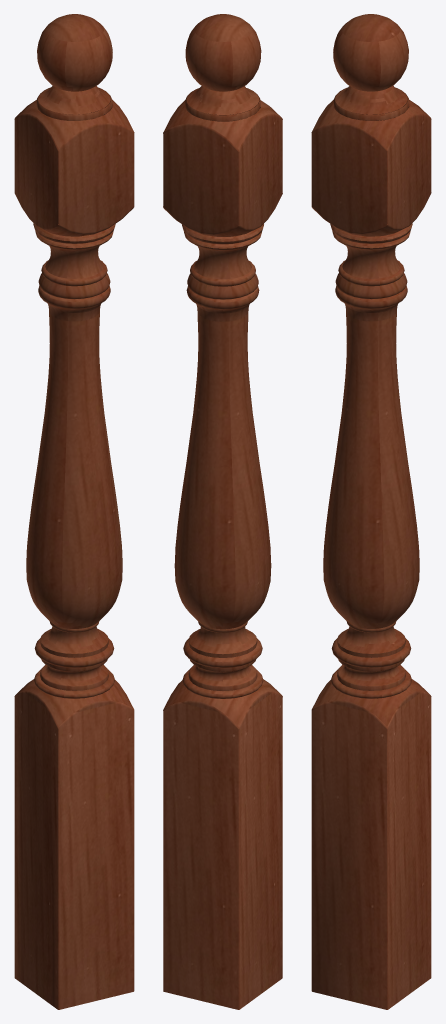
The model's file is big_col.gltf.
The picture shows the model from 3 angles, left to right: view 1: azimuth 30°, elevation 25°; view 2: azimuth 150°, elevation 25°; view 3: azimuth 330°, elevation 25°; orthographic projection.
Parts seen in each view (by area): view 1: Plane001; view 2: Plane001; view 3: Plane001.
Part boxes in pixels (x1,y1,x2,y2): Plane001: (14,14,134,1009); Plane001: (163,14,282,1009); Plane001: (311,14,431,1009).
Bounding box in the file's own units: 0.0985 × 1.09 × 0.0985.
1 material, 1 textured.
